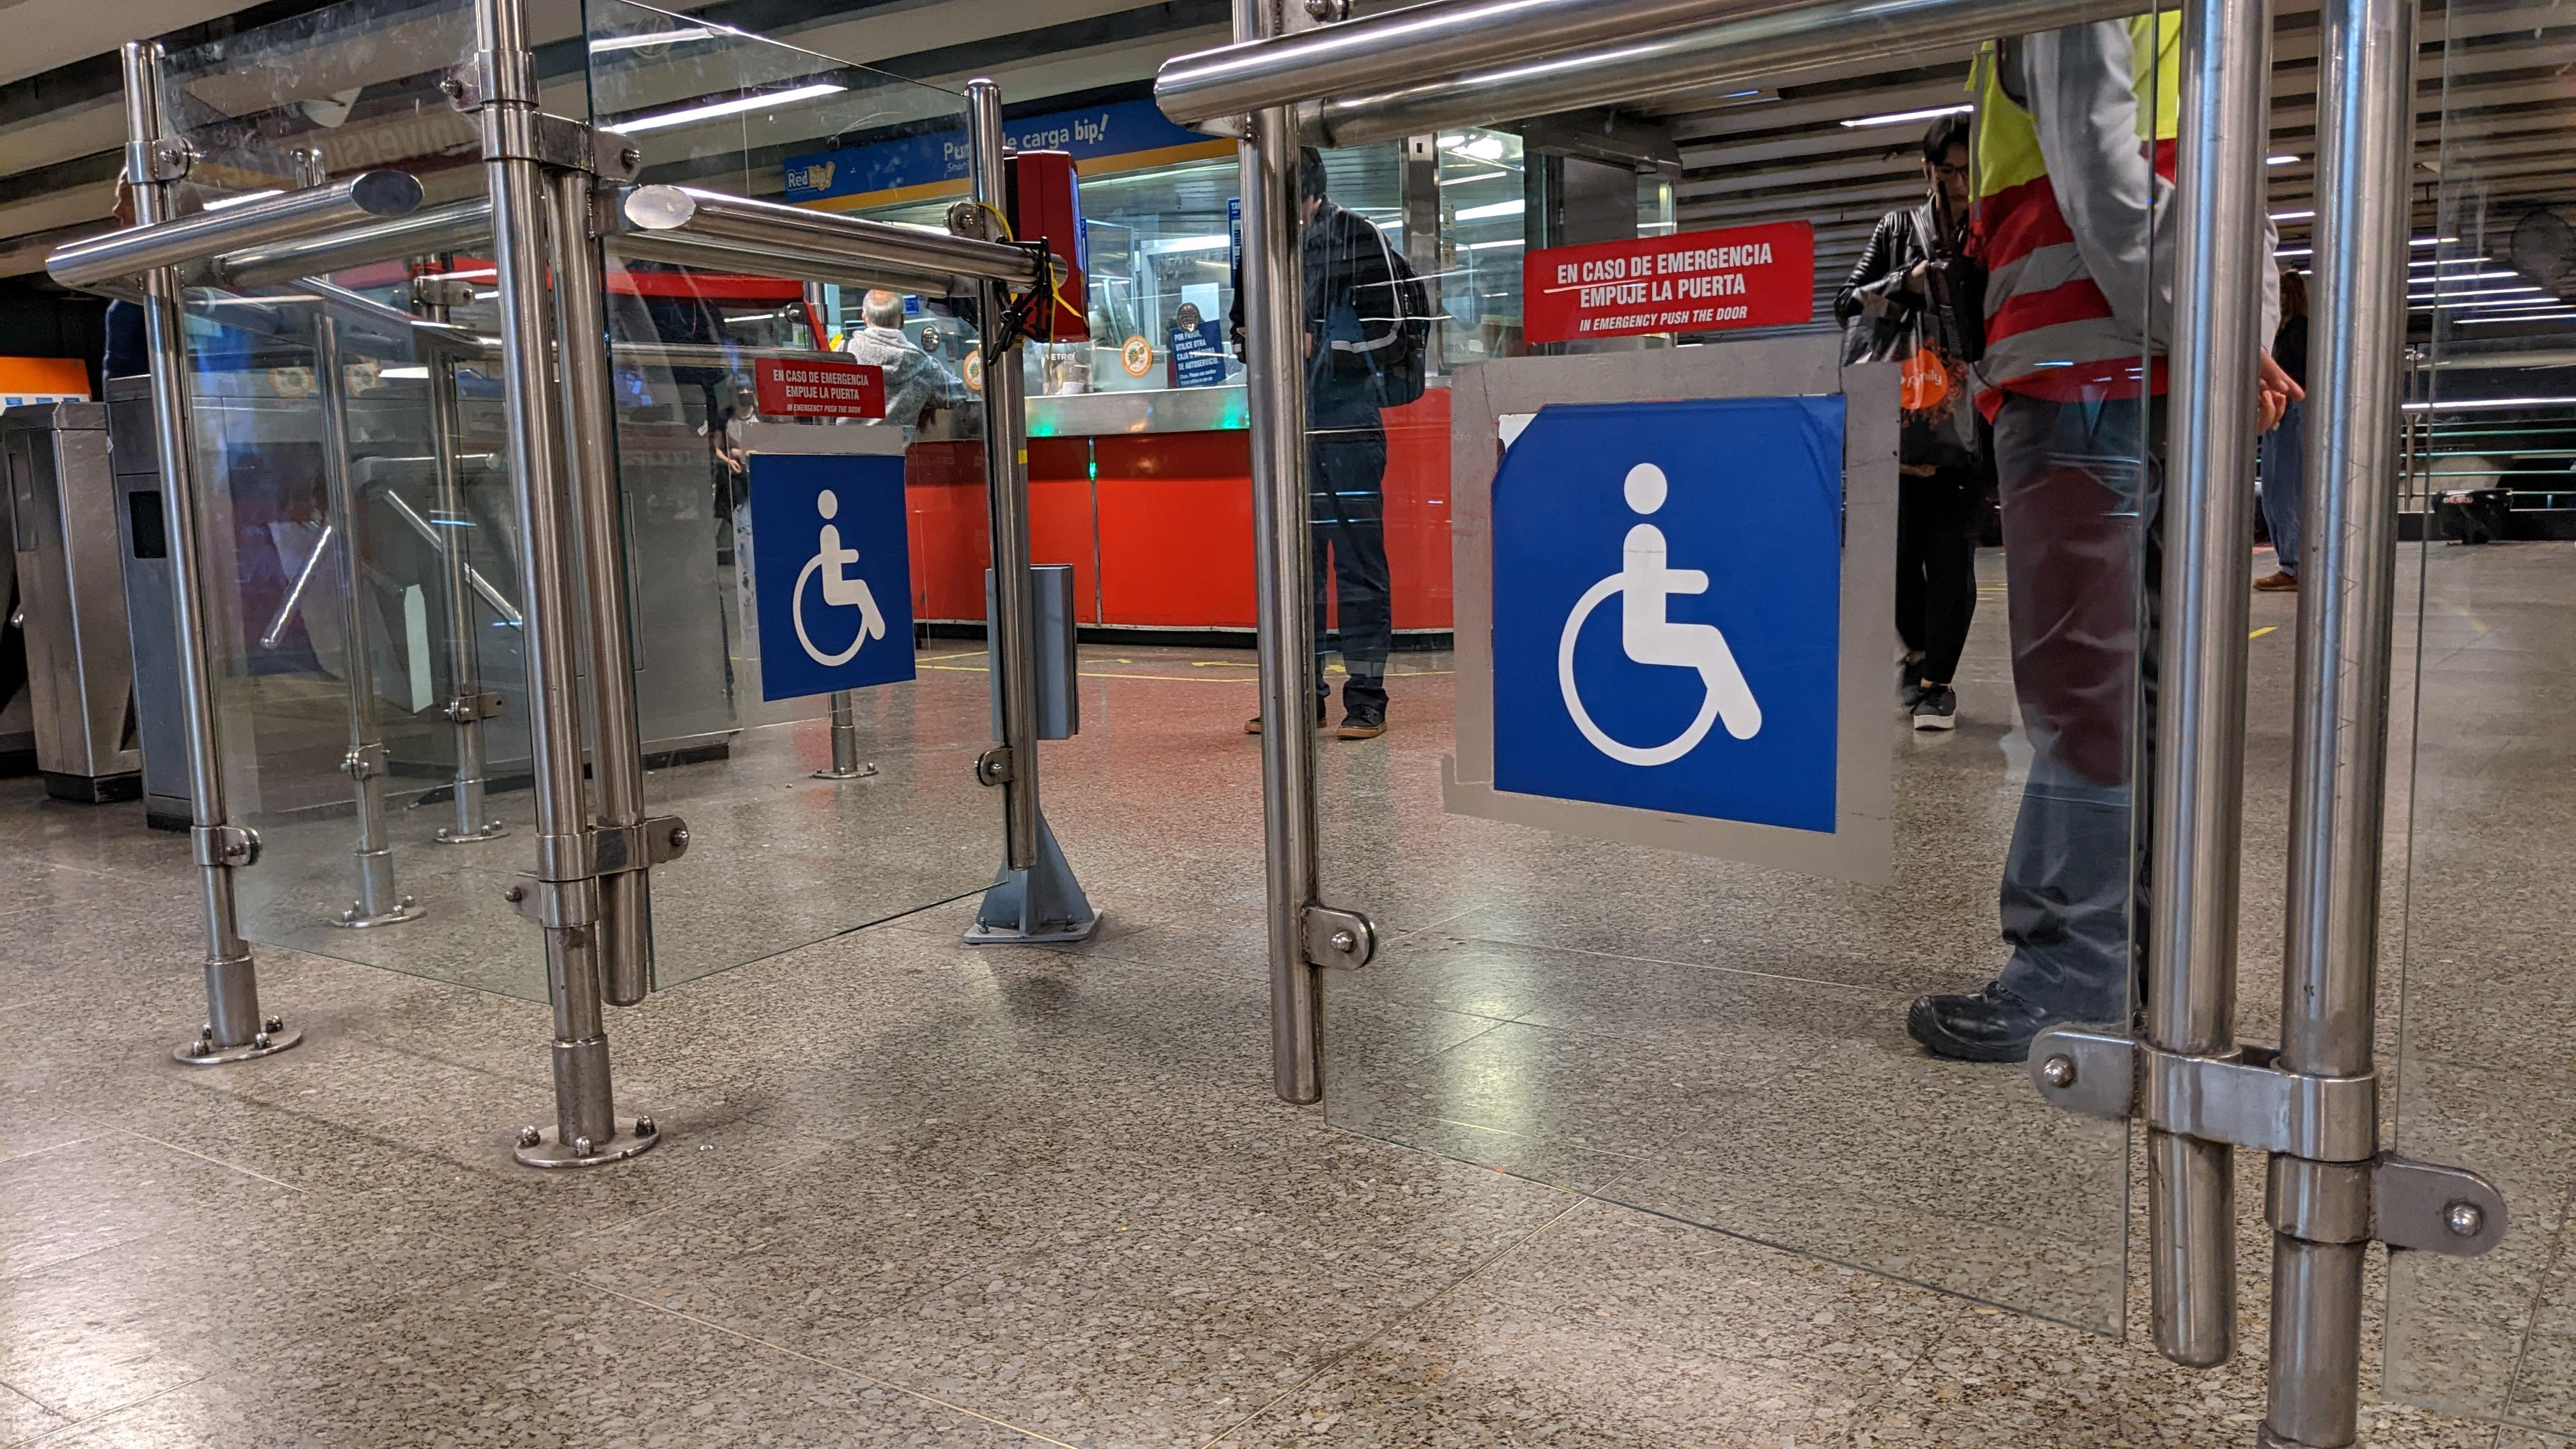handicapped symbol: (1552, 458, 1769, 766), (791, 483, 890, 671)
